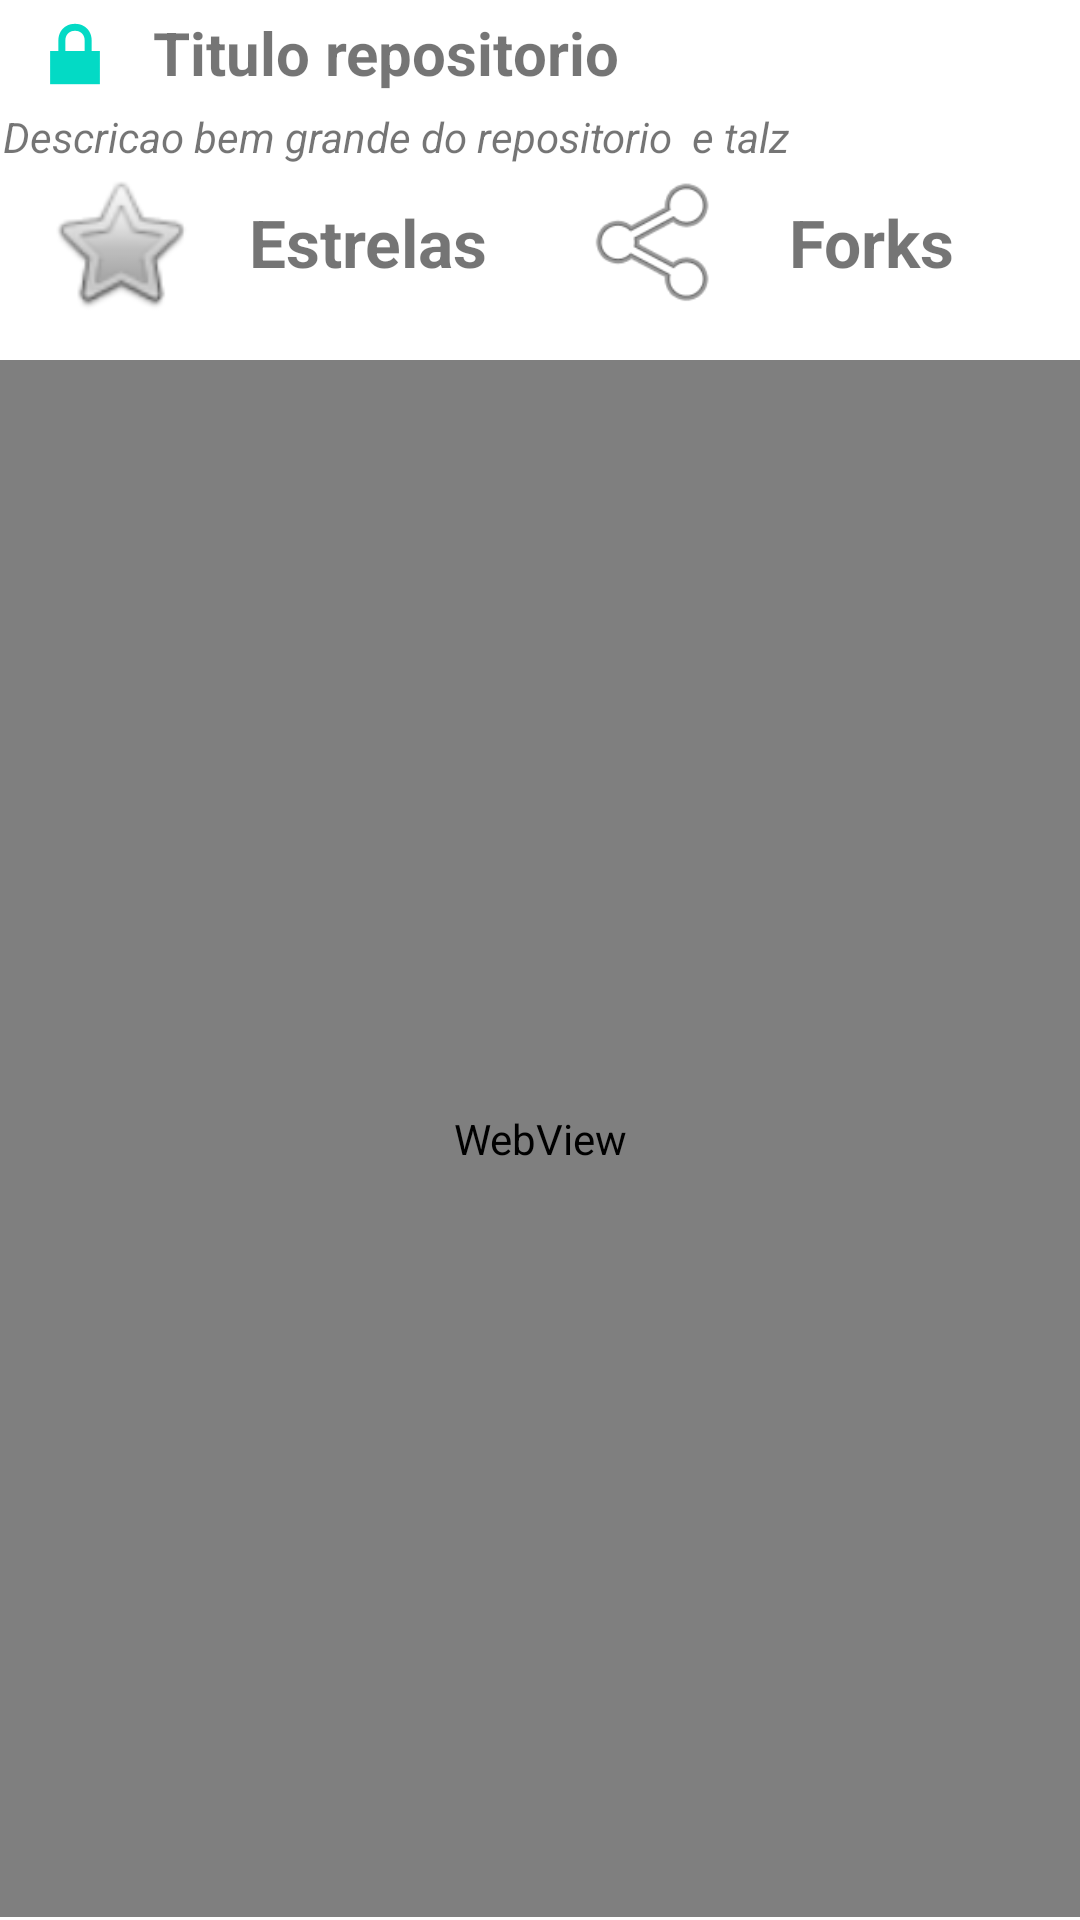

Where icons sit on this 1080px×1920px app screen, as (x1, y1, x2, y2):
lock: (50, 23, 100, 85)
share: (596, 183, 709, 301)
star: (59, 183, 184, 305)
